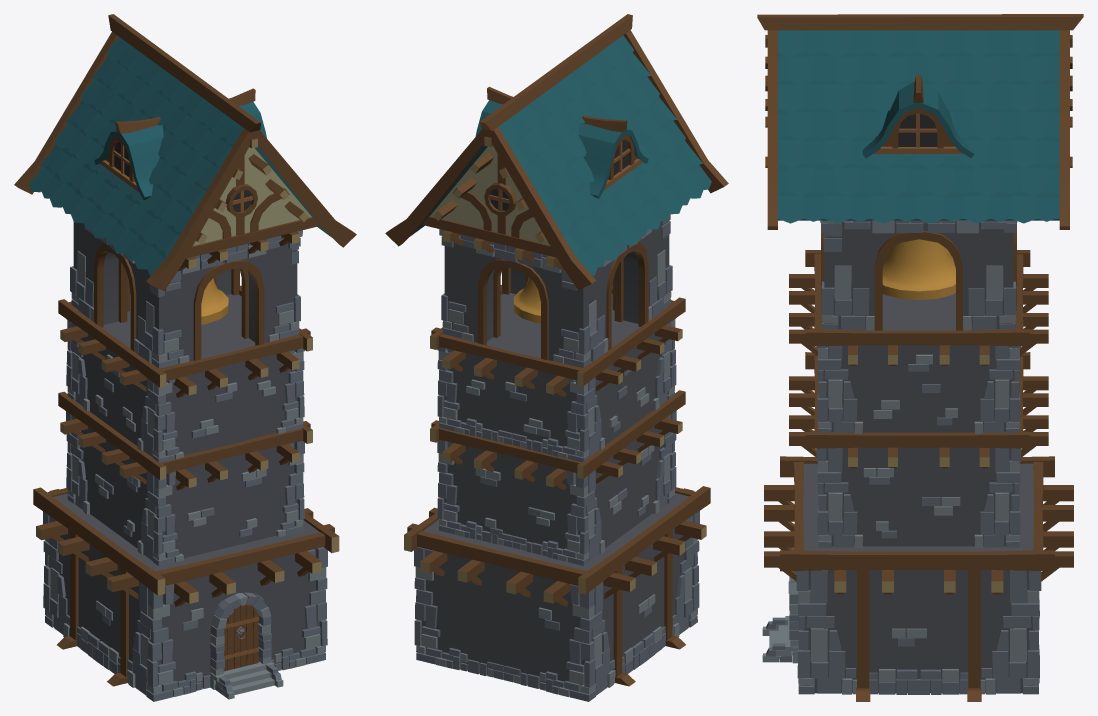
File: Bell Tower.glb
3 renders of one model, left to right at view 1: azimuth 30°, elevation 25°; view 2: azimuth 150°, elevation 25°; view 3: azimuth 270°, elevation 25°, orthographic. The views are drawn at different scales.
Visible parts, largest first — view 1: Bell_Tower; view 2: Bell_Tower; view 3: Bell_Tower.
Part boxes in pixels (x1,y1,x2,y2): Bell_Tower: (14, 14, 356, 701); Bell_Tower: (385, 14, 728, 701); Bell_Tower: (757, 14, 1083, 701).
Size of the model in its own units: 1.94 by 4.76 by 2.23.
